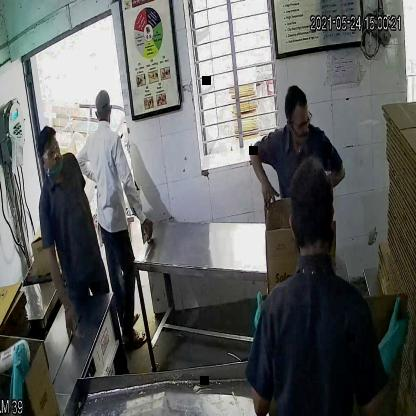goggles: (284, 110, 314, 135), (39, 139, 63, 165)
